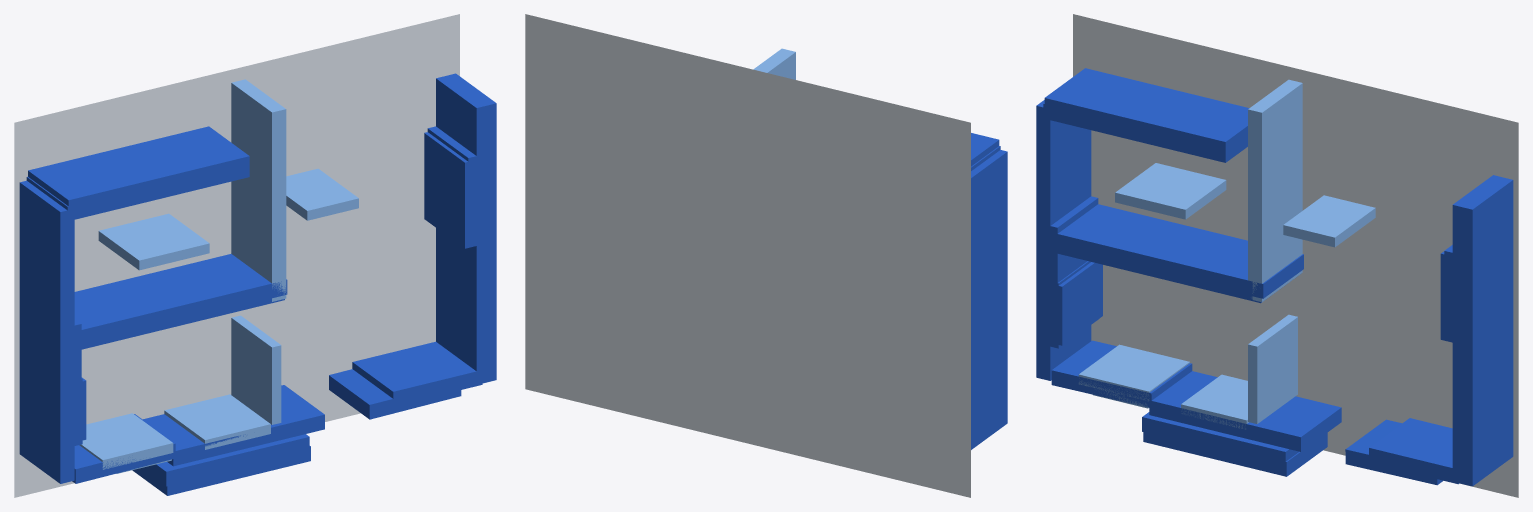
File: 30706fde-f223-4f2d-9a1c-1c50f06bfc03.obj
3 renders of one model, left to right at view 1: azimuth 30°, elevation 25°; view 2: azimuth 150°, elevation 25°; view 3: azimuth 330°, elevation 25°, orthographic.
Bounding box in the file's own units: 18.95 × 15.25 × 3.05.
